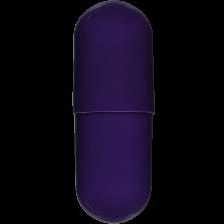29033-004: (0, 0, 224, 224)
